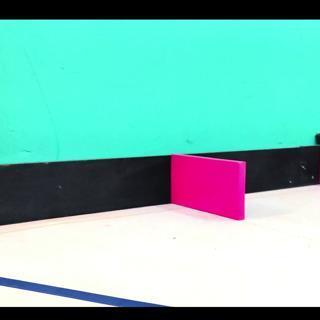xparking: (175, 166, 244, 220)
